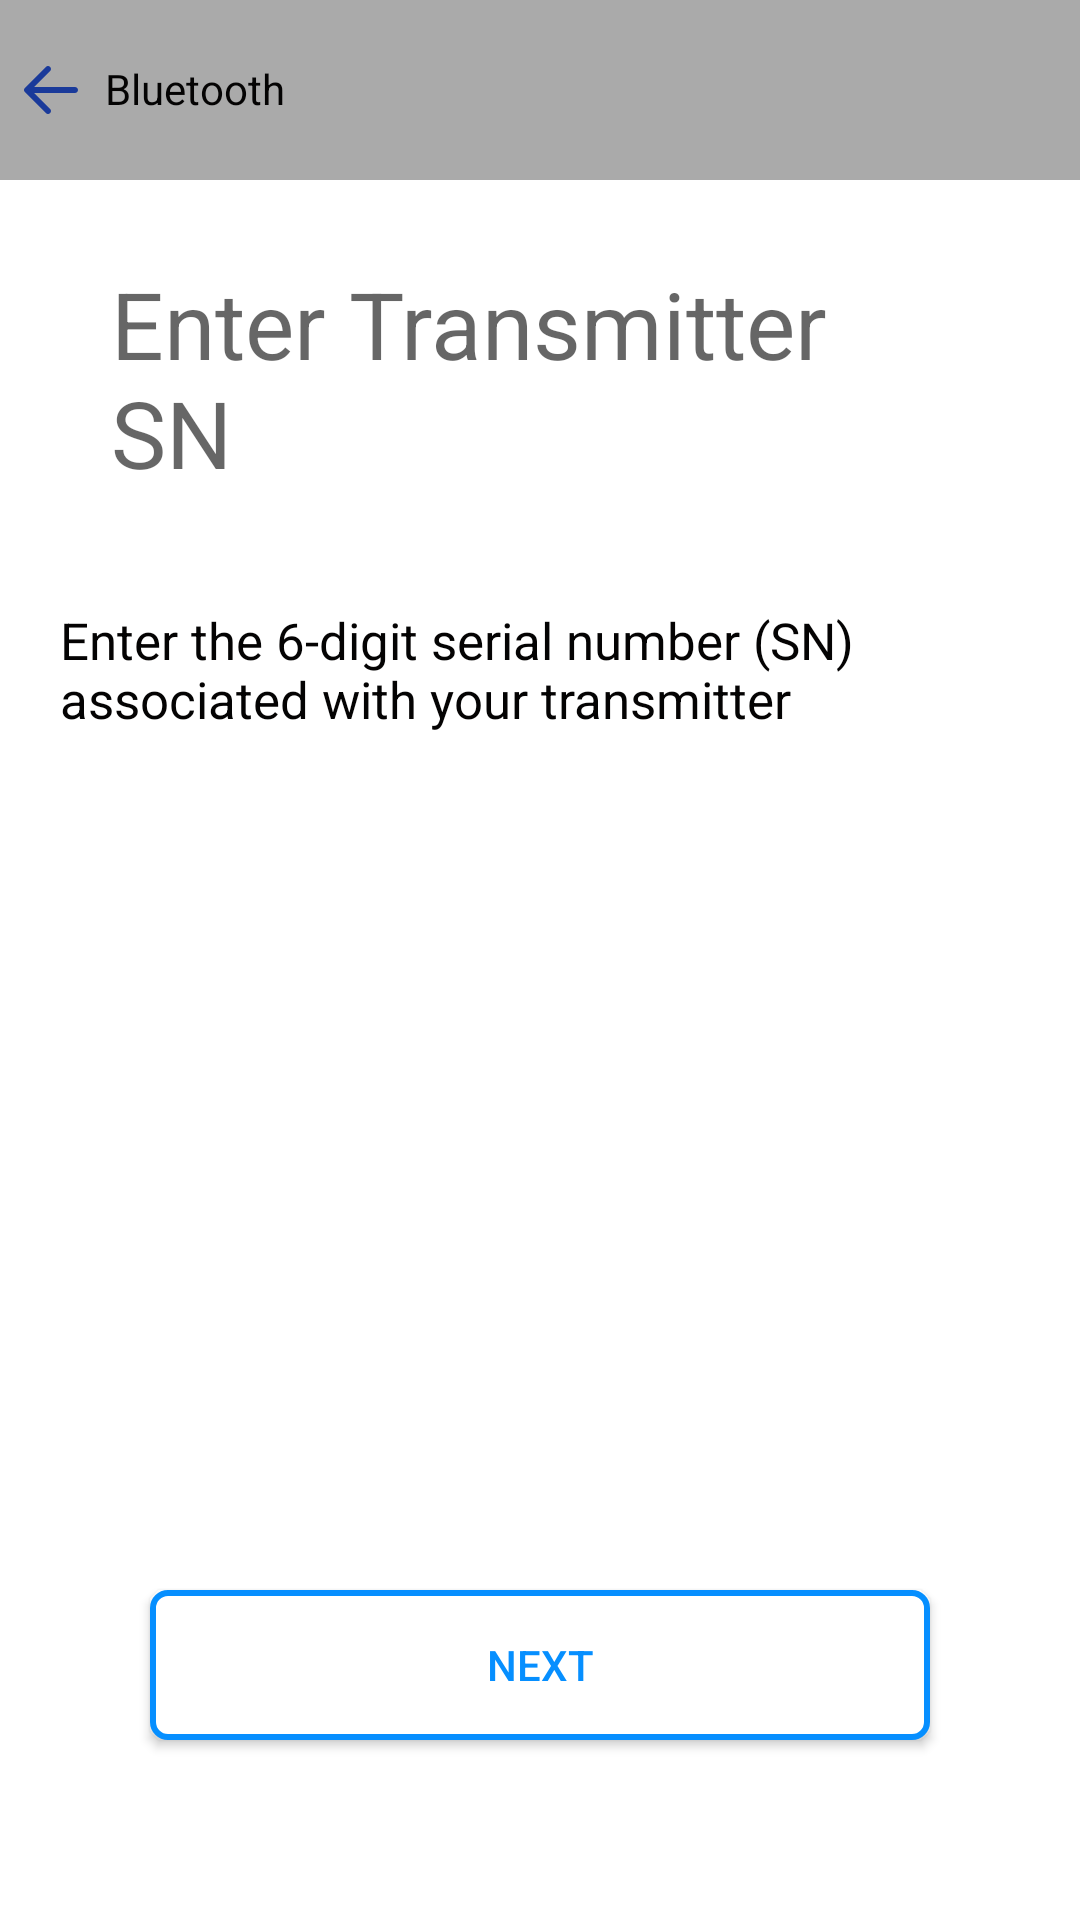

Named icons in this screenshot (1080×1920) and their bounding boxes, (x1, y1, x2, y2):
left: (24, 66, 78, 114)
